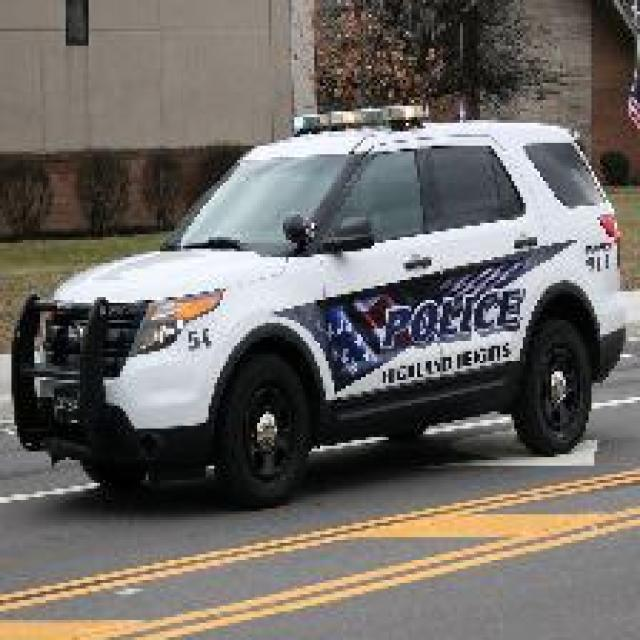emergency: (5, 97, 631, 509)
